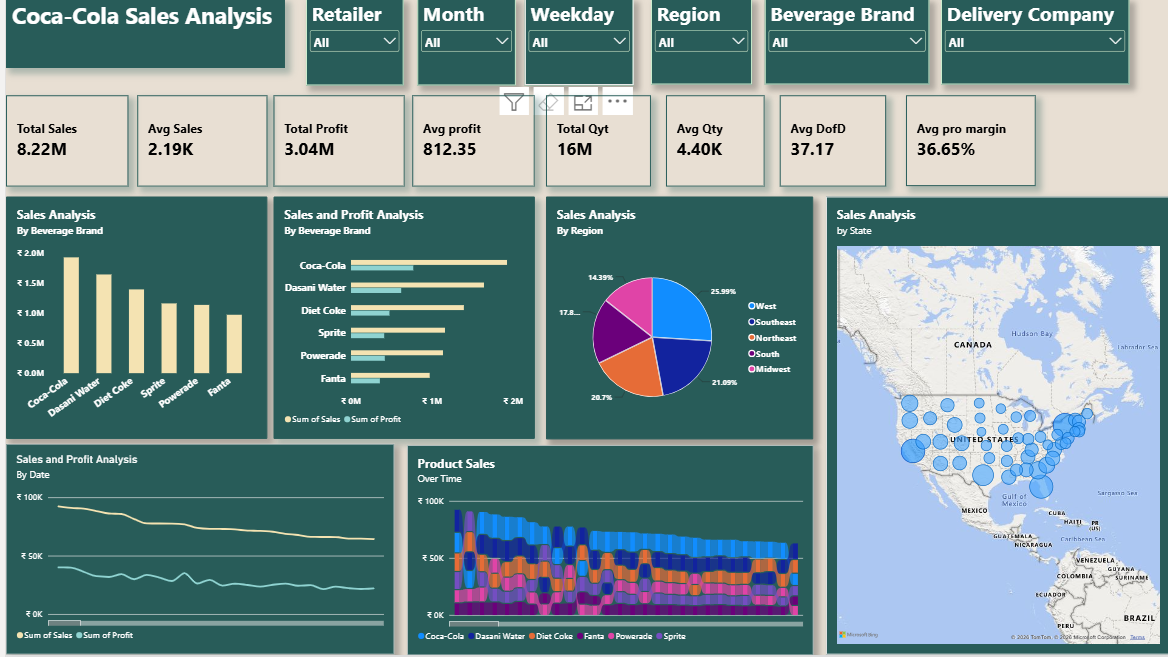

The dashboard page shown, as its layout file describes it:
{"tool":"powerbi","page":{"name":"Page 1","canvas":[1920,1080],"ordinal":0},"visuals":[{"type":"slicer","fields":{"Values":["Coca_cola_data.Retailer"]},"box":[494,0,160.5,142],"z":0},{"type":"textbox","box":[0,0,459,113.2],"z":1000},{"type":"slicer","fields":{"Values":["Coca_cola_data.Month"]},"box":[677.2,0,162.6,142],"z":2000},{"type":"slicer","fields":{"Values":["Coca_cola_data.Weekday"]},"box":[855.2,0,179.1,142],"z":3000},{"type":"slicer","fields":{"Values":["Coca_cola_data.Region"]},"box":[1062.6,0,166.8,141.1],"z":4000},{"type":"slicer","fields":{"Values":["Coca_cola_data.Beverage Brand"]},"box":[1248.6,0,271.5,141.1],"z":5000},{"type":"slicer","fields":{"Values":["Coca_cola_data.Delivery Company"]},"box":[1539.4,0,310,141.1],"z":6000},{"type":"cardVisual","fields":{"Data":["Coca_cola_data.Total Sales"]},"box":[0,158.5,201.7,150.3],"z":7000},{"type":"cardVisual","fields":{"Data":["Coca_cola_data.Avg Qty"]},"box":[1086.8,158.5,162.6,150.3],"z":8000},{"type":"cardVisual","fields":{"Data":["Coca_cola_data.Avg profit"]},"box":[669,158.5,201.7,150.3],"z":9000},{"type":"cardVisual","fields":{"Data":["Coca_cola_data.Total Profit"]},"box":[440.5,158.5,216.1,150.3],"z":10000},{"type":"cardVisual","fields":{"Data":["Coca_cola_data.Avg pro margin"]},"box":[1481.7,158.2,213.8,149.7],"z":11000},{"type":"cardVisual","fields":{"Data":["Coca_cola_data.Total Qyt"]},"box":[889.2,158.5,172.9,150.3],"z":12000},{"type":"cardVisual","fields":{"Data":["Coca_cola_data.Avg DofD"]},"box":[1274.1,158.5,175,150.3],"z":13000},{"type":"cardVisual","fields":{"Data":["Coca_cola_data.Avg Sales"]},"box":[216.1,158.5,214.1,150.3],"z":14000},{"type":"columnChart","title":"Sales Analysis ","fields":{"Category":["Coca_cola_data.Beverage Brand"],"Y":["Sum(Coca_cola_data.Sales)"]},"box":[0,325.2,430.2,399.3],"z":14001},{"type":"clusteredBarChart","title":"Sales and Profit Analysis","fields":{"Category":["Coca_cola_data.Beverage Brand"],"Y":["Sum(Coca_cola_data.Sales)","Sum(Coca_cola_data.Profit)"]},"box":[440.5,325.2,430.2,399.3],"z":14002},{"type":"map","title":"Sales Analysis ","fields":{"Category":["Coca_cola_data.State","Coca_cola_data.City"],"Size":["Sum(Coca_cola_data.Sales)"]},"box":[1351.3,325,568.7,754.7],"z":14003},{"type":"pieChart","title":"Sales Analysis ","fields":{"Category":["Coca_cola_data.Region"],"Y":["Sum(Coca_cola_data.Profit)"]},"box":[889.2,325.2,440,400],"z":14004},{"type":"lineChart","title":"Sales and Profit Analysis","fields":{"Category":["Coca_cola_data.date"],"Y":["Sum(Coca_cola_data.Sales)","Sum(Coca_cola_data.Profit)"]},"box":[0,733.4,639.3,346.4],"z":14005},{"type":"ribbonChart","title":"Product Sales ","fields":{"Category":["Coca_cola_data.date"],"Series":["Coca_cola_data.Beverage Brand"],"Y":["Sum(Coca_cola_data.Sales)"]},"box":[660.7,735.5,669,345.8],"z":14006}]}

Visuals, with their boxes in screenshot pixels (x1, y1, x2, y2), scaled from the page's 1920x1080 canvas onto the 1168x657 screenshot:
slicer - Coca_cola_data.Retailer: {"left": 301, "top": 0, "right": 398, "bottom": 86}
textbox: {"left": 0, "top": 0, "right": 279, "bottom": 69}
slicer - Coca_cola_data.Month: {"left": 412, "top": 0, "right": 511, "bottom": 86}
slicer - Coca_cola_data.Weekday: {"left": 520, "top": 0, "right": 629, "bottom": 86}
slicer - Coca_cola_data.Region: {"left": 646, "top": 0, "right": 748, "bottom": 86}
slicer - Coca_cola_data.Beverage Brand: {"left": 760, "top": 0, "right": 925, "bottom": 86}
slicer - Coca_cola_data.Delivery Company: {"left": 936, "top": 0, "right": 1125, "bottom": 86}
cardVisual - Coca_cola_data.Total Sales: {"left": 0, "top": 96, "right": 123, "bottom": 188}
cardVisual - Coca_cola_data.Avg Qty: {"left": 661, "top": 96, "right": 760, "bottom": 188}
cardVisual - Coca_cola_data.Avg profit: {"left": 407, "top": 96, "right": 530, "bottom": 188}
cardVisual - Coca_cola_data.Total Profit: {"left": 268, "top": 96, "right": 399, "bottom": 188}
cardVisual - Coca_cola_data.Avg pro margin: {"left": 901, "top": 96, "right": 1031, "bottom": 187}
cardVisual - Coca_cola_data.Total Qyt: {"left": 541, "top": 96, "right": 646, "bottom": 188}
cardVisual - Coca_cola_data.Avg DofD: {"left": 775, "top": 96, "right": 882, "bottom": 188}
cardVisual - Coca_cola_data.Avg Sales: {"left": 131, "top": 96, "right": 262, "bottom": 188}
"Sales Analysis " columnChart: {"left": 0, "top": 198, "right": 262, "bottom": 441}
"Sales and Profit Analysis" clusteredBarChart: {"left": 268, "top": 198, "right": 530, "bottom": 441}
"Sales Analysis " map: {"left": 822, "top": 198, "right": 1167, "bottom": 656}
"Sales Analysis " pieChart: {"left": 541, "top": 198, "right": 809, "bottom": 441}
"Sales and Profit Analysis" lineChart: {"left": 0, "top": 446, "right": 389, "bottom": 656}
"Product Sales " ribbonChart: {"left": 402, "top": 447, "right": 809, "bottom": 656}
